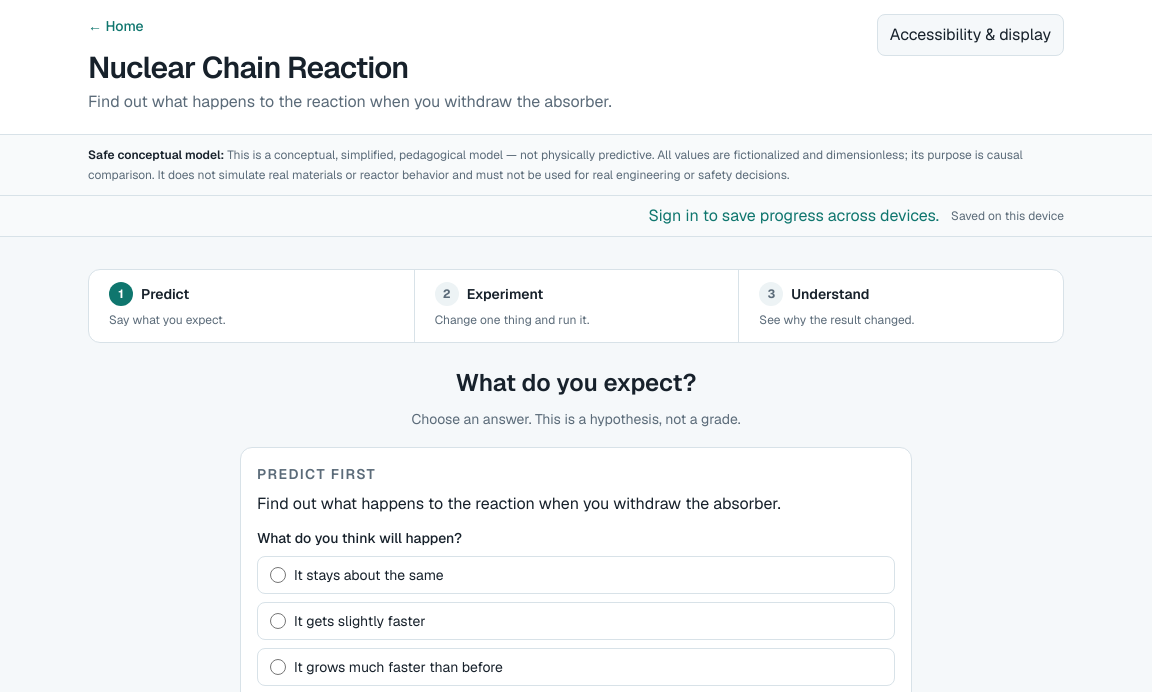
Test: ExperimentShell main learner flow › start over resets both the UI and the stored evidence
Click the radio button labelled "It gets slightly faster": [278, 621] box 270,613 -> 286,629
(page scrolled)
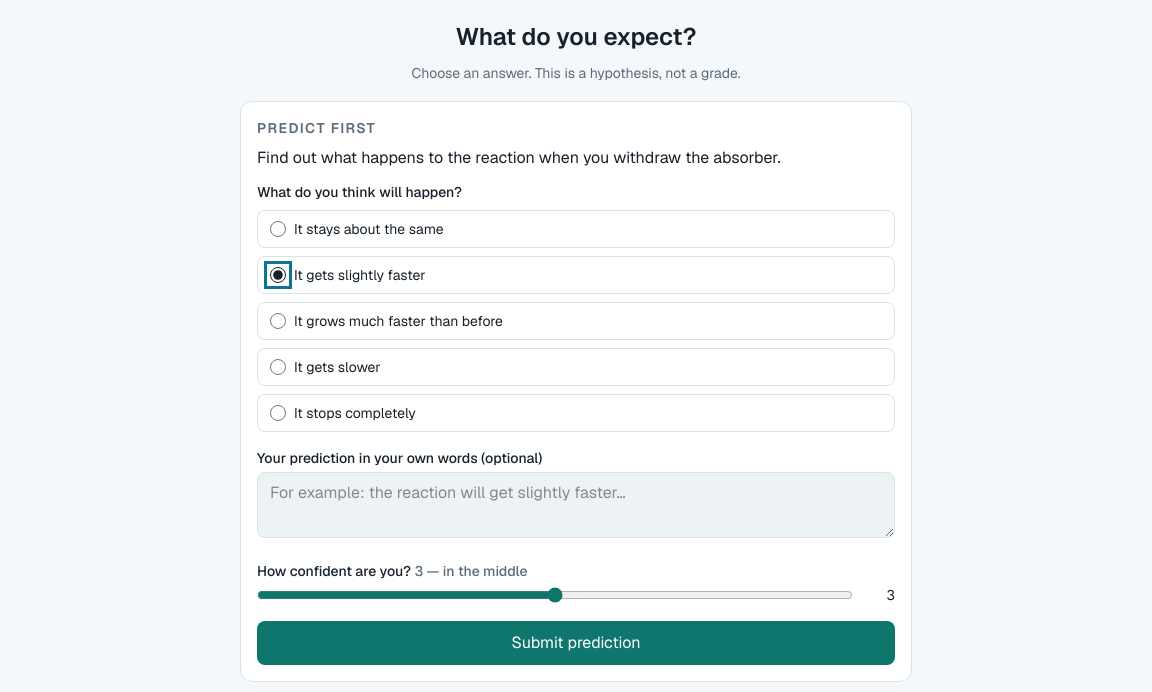
Click the button "Submit prediction": [576, 643] box 257,621 -> 895,665
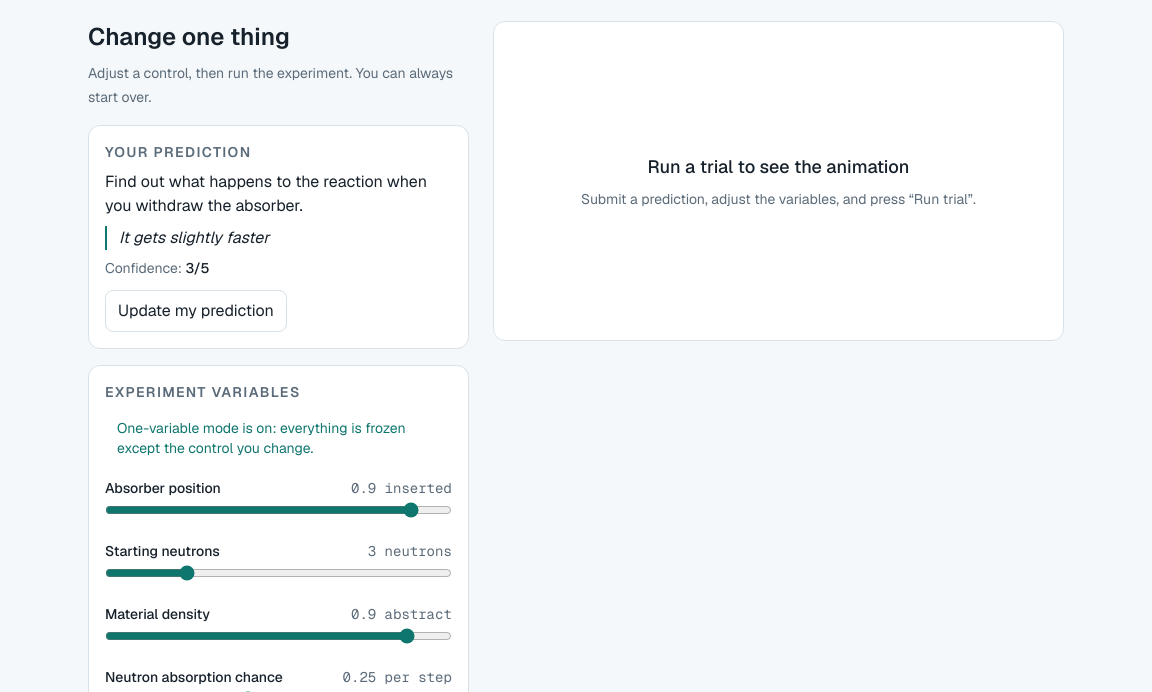
Set the slider labelled "Absorber position" to "0": [113, 510] box 105,502 -> 452,518
(page scrolled)
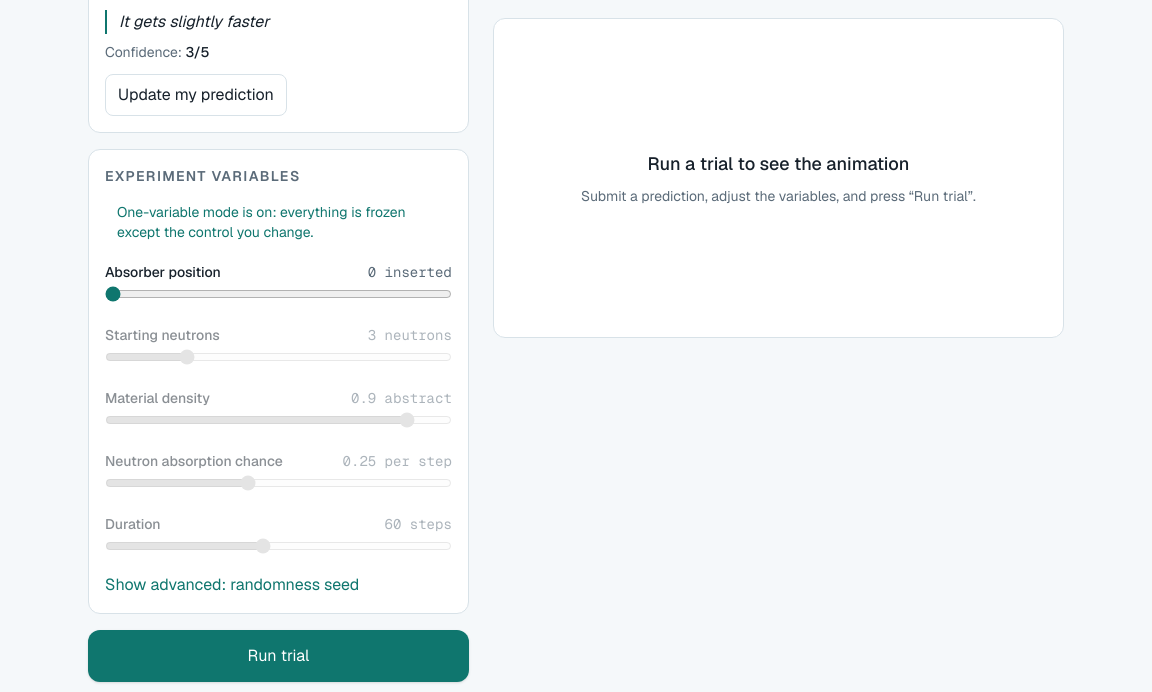
Click the button "Run trial": [278, 656] box 88,630 -> 469,682
(page scrolled)
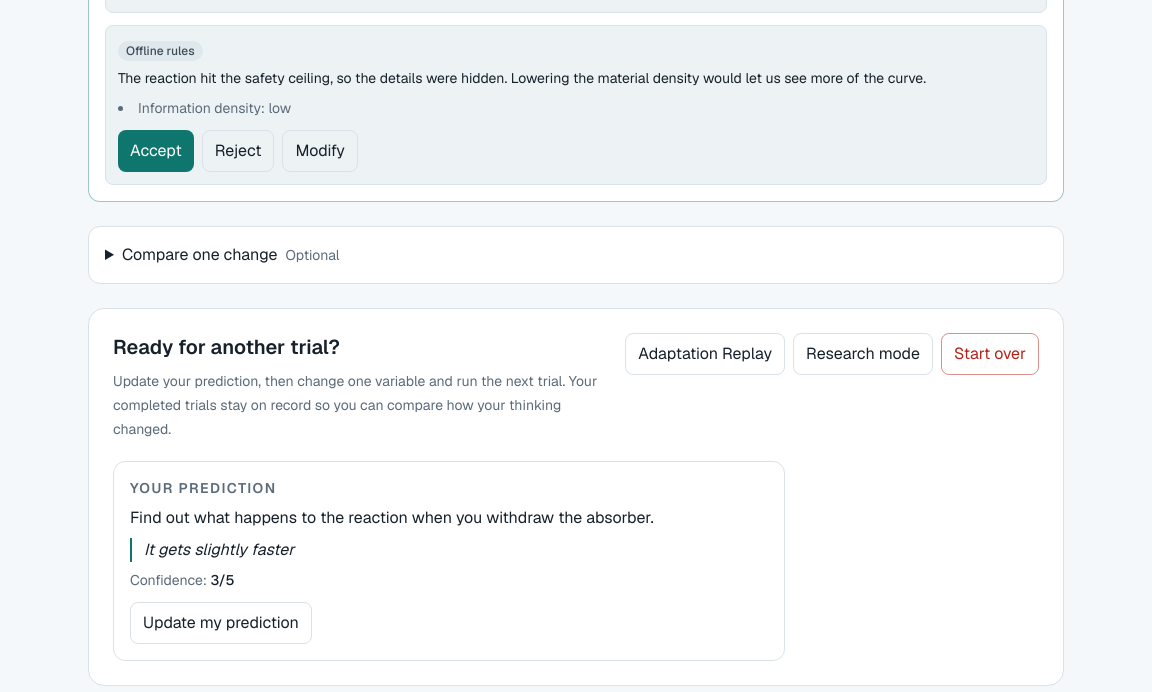
Click the button "Start over": [990, 354] box 941,333 -> 1039,375
(page scrolled)
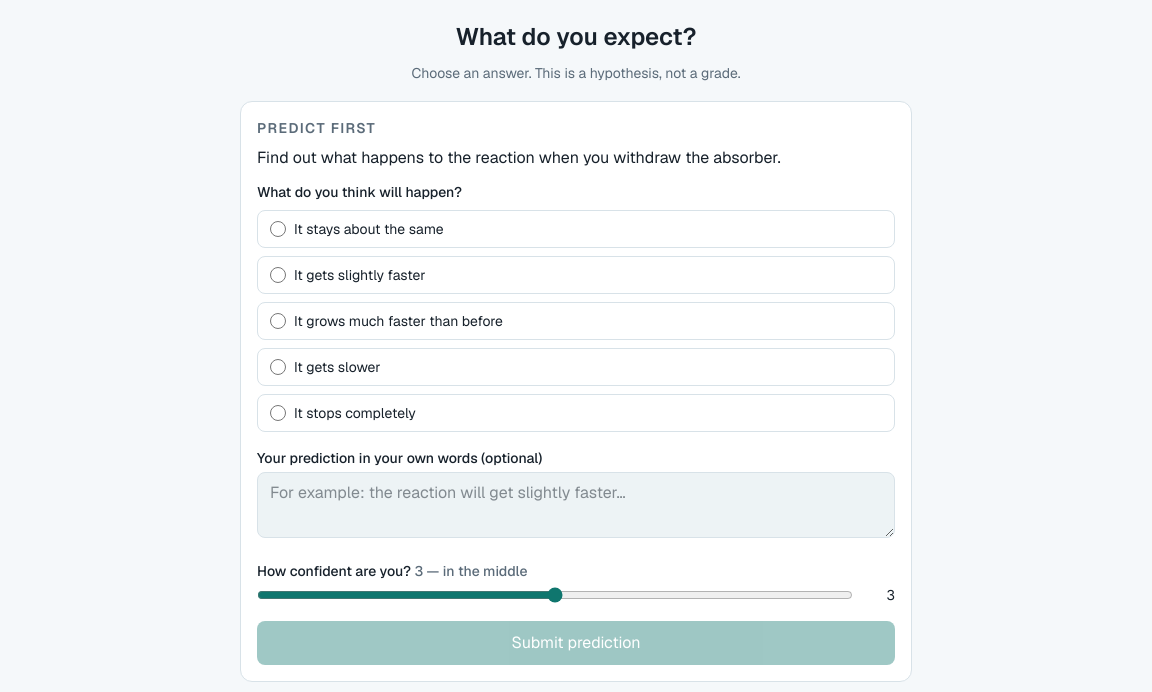
Check: the heading "Predict first" is shown, box 257,119 -> 376,137
